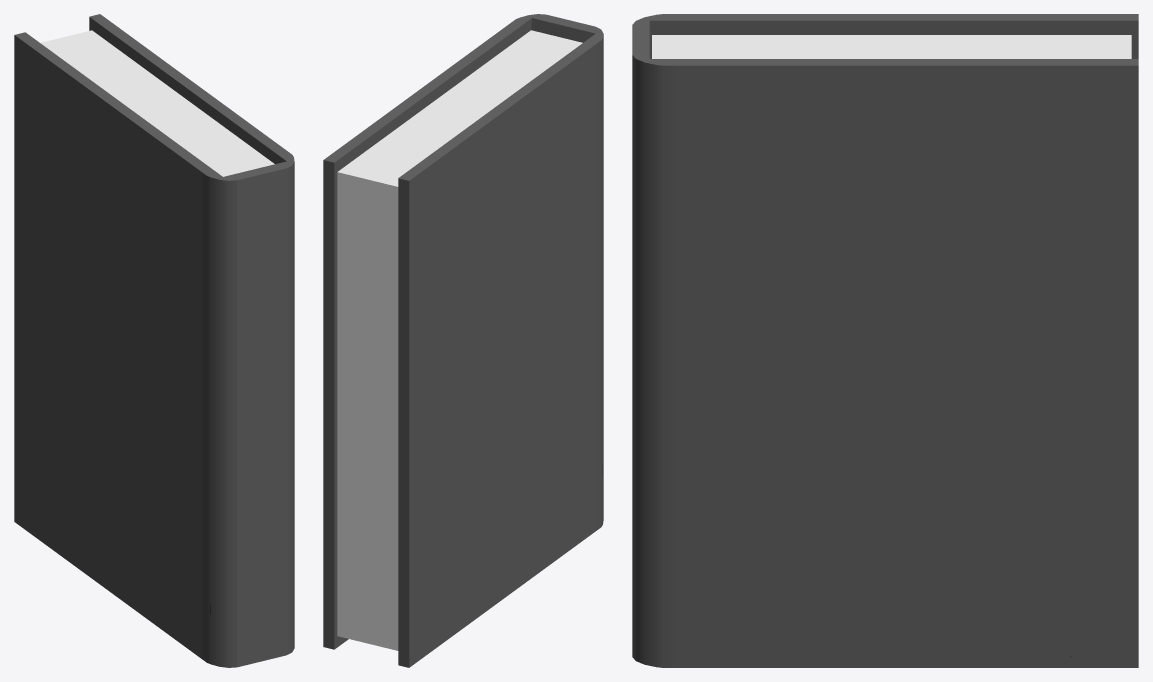
File: LibroGris.fbx
3 renders of one model, left to right at view 1: azimuth 30°, elevation 25°; view 2: azimuth 150°, elevation 25°; view 3: azimuth 270°, elevation 25°, orthographic. The views are drawn at different scales.
Parts seen in each view (by area): view 1: libro; view 2: libro; view 3: libro.
Boxes of the visible parts, bbox=[...] form: libro: bbox=[14, 14, 294, 667]; libro: bbox=[323, 14, 603, 667]; libro: bbox=[632, 14, 1138, 667].
Bounding box in the file's own units: 4.64 × 25.17 × 19.18.
